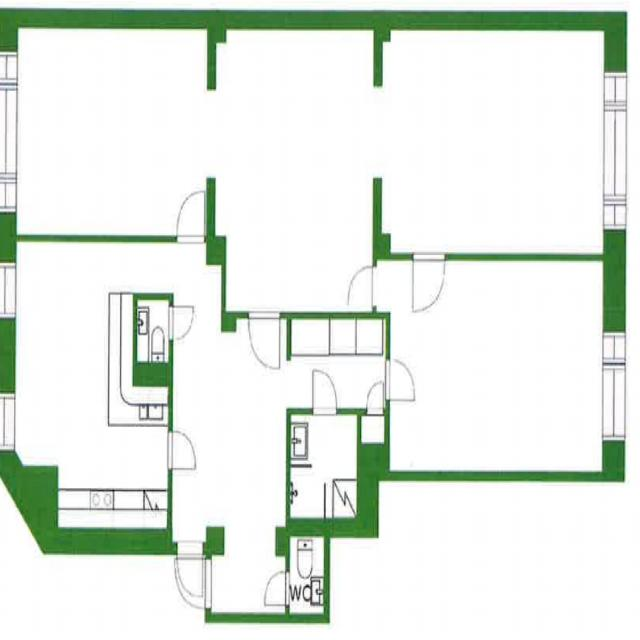door: (174, 558, 212, 608), (248, 312, 280, 371), (413, 253, 445, 311), (176, 542, 203, 598), (176, 191, 204, 243), (384, 359, 414, 400), (346, 267, 376, 307), (312, 371, 336, 416), (168, 431, 195, 468), (264, 572, 290, 604), (167, 306, 192, 339), (366, 382, 383, 416)
